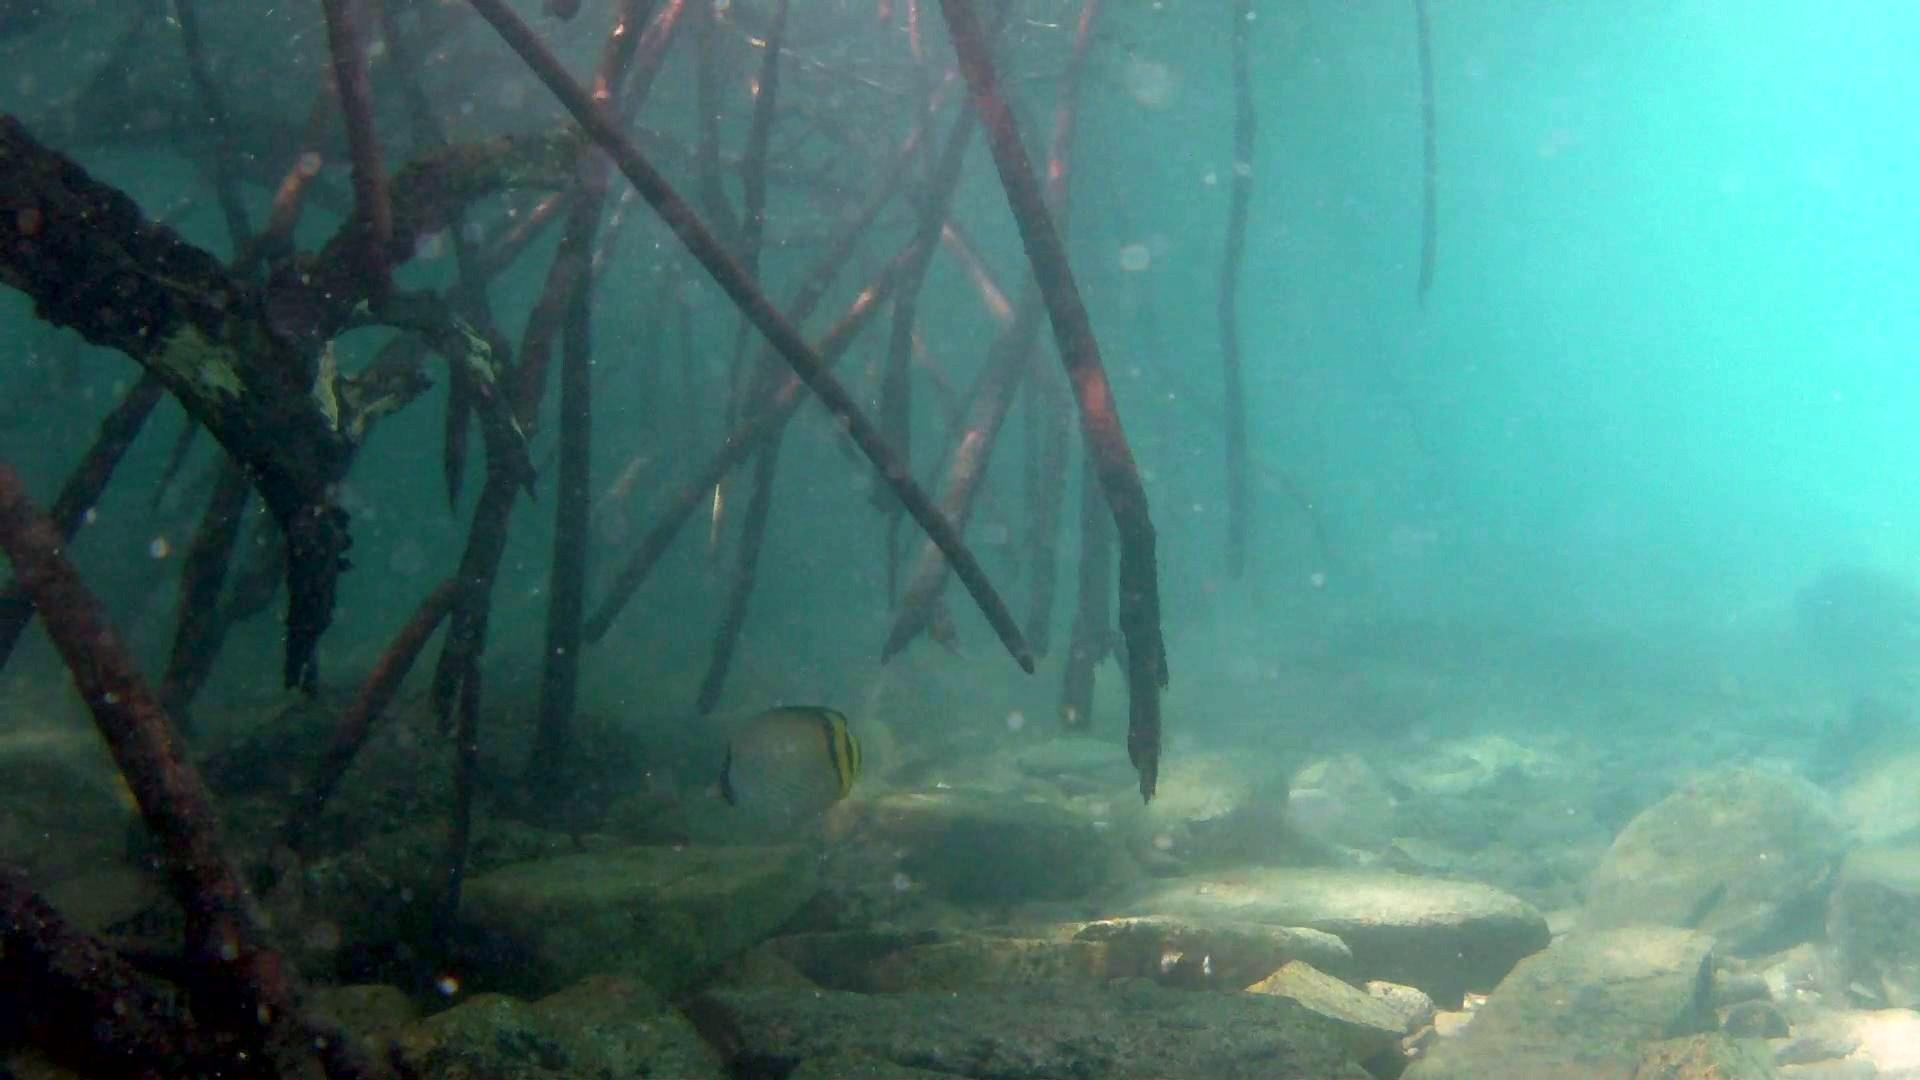chaetodon vagabundus: (703, 704, 865, 825)
